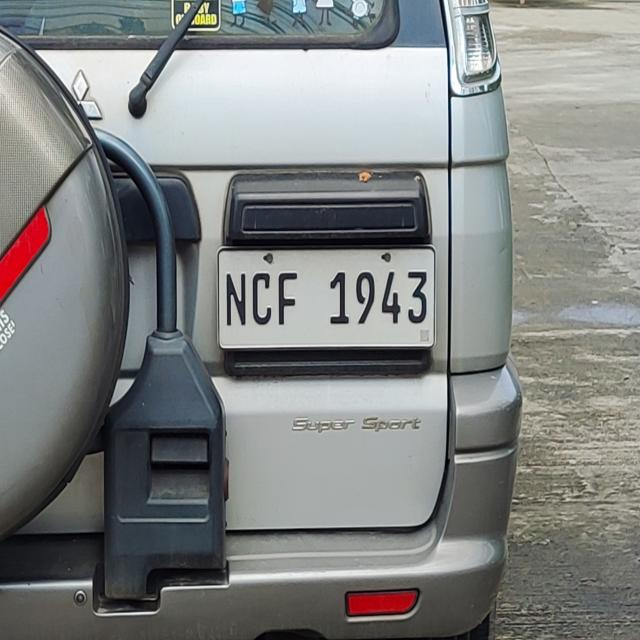plate: (216, 244, 437, 350)
